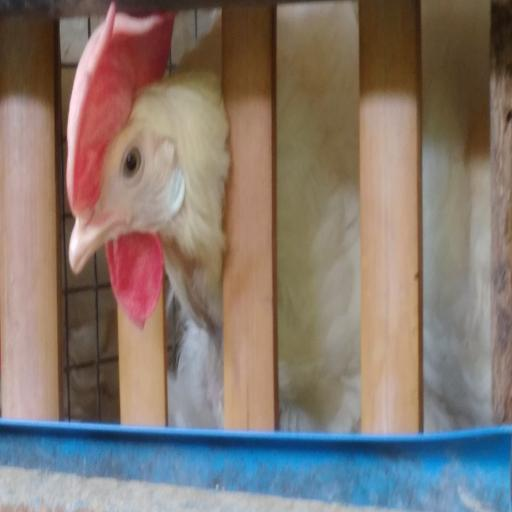healthy: (74, 56, 209, 286)
